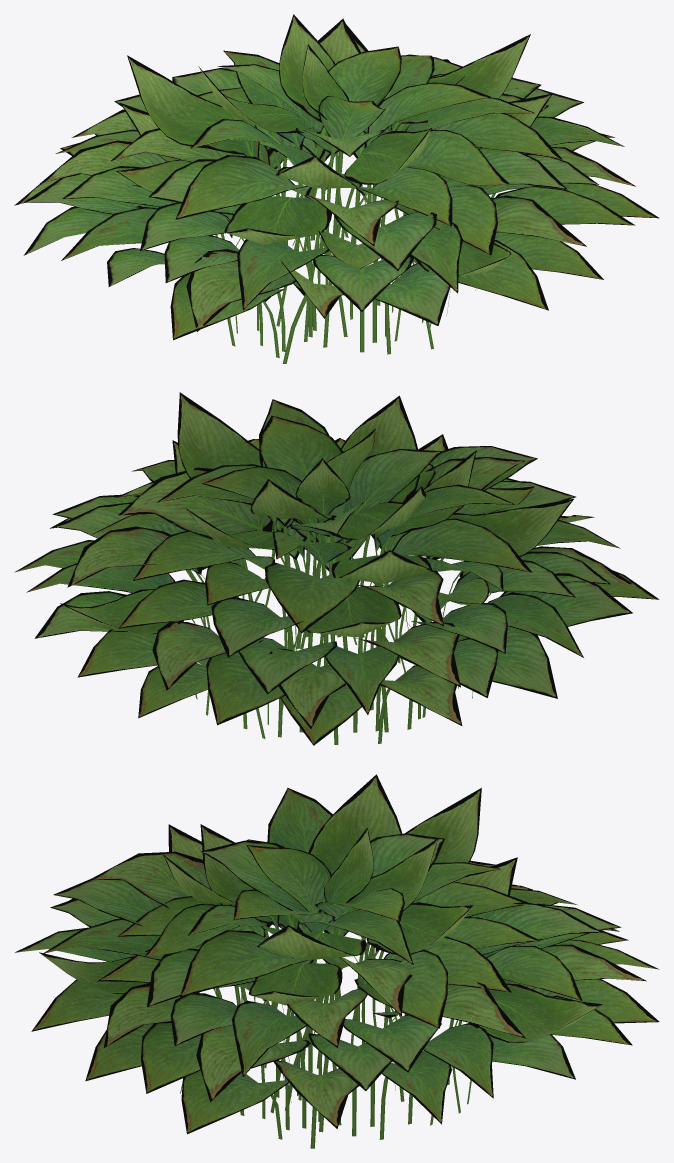
File: Bush Stylized.glb
3 views of the same model, one above another, from view 1: azimuth 30°, elevation 25°; view 2: azimuth 150°, elevation 25°; view 3: azimuth 270°, elevation 25° (orthographic). The views are drawn at different scales.
Parts seen in each view (by area): view 1: SM_DevonGreen_01_B; view 2: SM_DevonGreen_01_B; view 3: SM_DevonGreen_01_B.
Boxes of the visible parts, left/top/right/bottom form: SM_DevonGreen_01_B: left=14, top=14, right=659, bottom=363; SM_DevonGreen_01_B: left=14, top=392, right=659, bottom=745; SM_DevonGreen_01_B: left=15, top=774, right=659, bottom=1148.
Size of the model in its own units: 1.47 by 0.6228 by 1.45.
1 material, 1 textured.
